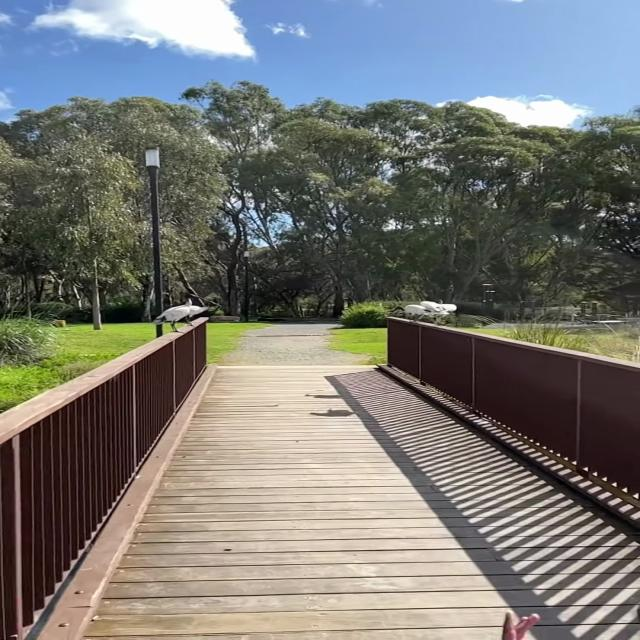Birds-Ibis: (152, 292, 206, 334), (419, 299, 458, 326), (188, 299, 223, 327), (389, 304, 432, 323)
